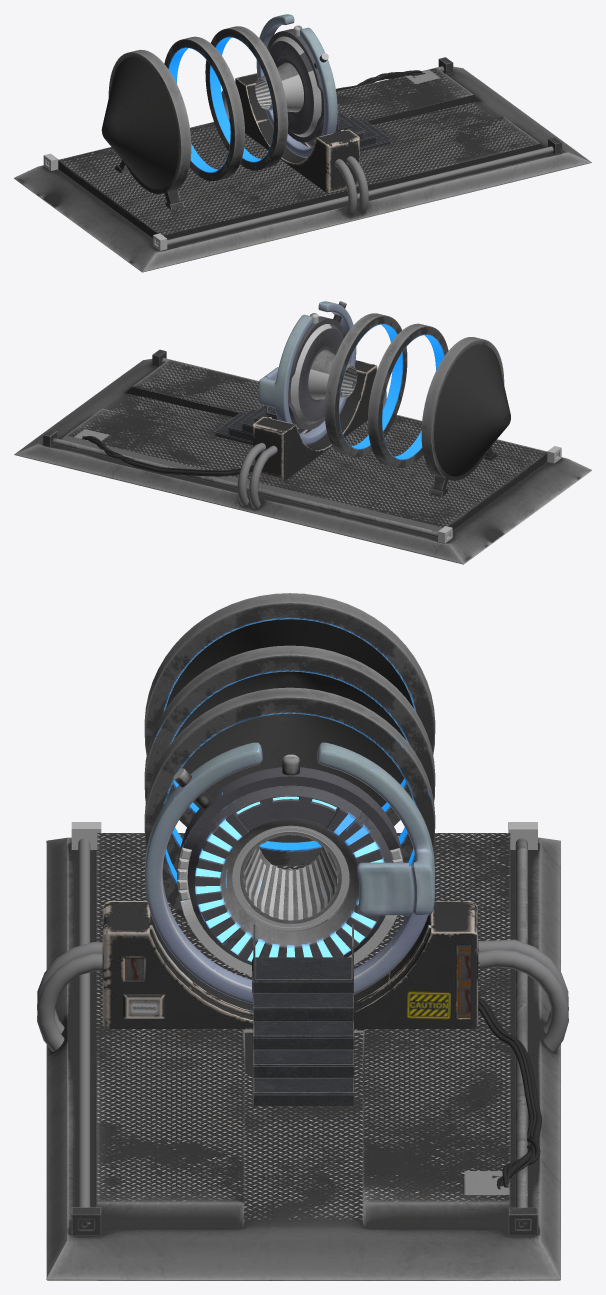
The model's file is portal.glb.
3 renders of one model, top to bottom at view 1: azimuth 30°, elevation 25°; view 2: azimuth 150°, elevation 25°; view 3: azimuth 270°, elevation 25°, orthographic. The views are drawn at different scales.
Visible parts, largest first — view 1: fuse_box.004, outside_ring.002; view 2: fuse_box.004, outside_ring.002; view 3: fuse_box.004, outside_ring.002.
Boxes of the visible parts, x1,y1,x2,y2 form: fuse_box.004: [14, 57, 591, 272]; outside_ring.002: [101, 14, 337, 209]; fuse_box.004: [14, 349, 591, 564]; outside_ring.002: [258, 301, 510, 497]; fuse_box.004: [37, 822, 568, 1280]; outside_ring.002: [144, 593, 435, 1003].
Size of the model in its own units: 27.31 by 9.5 by 13.98.
2 materials, 2 textured.
